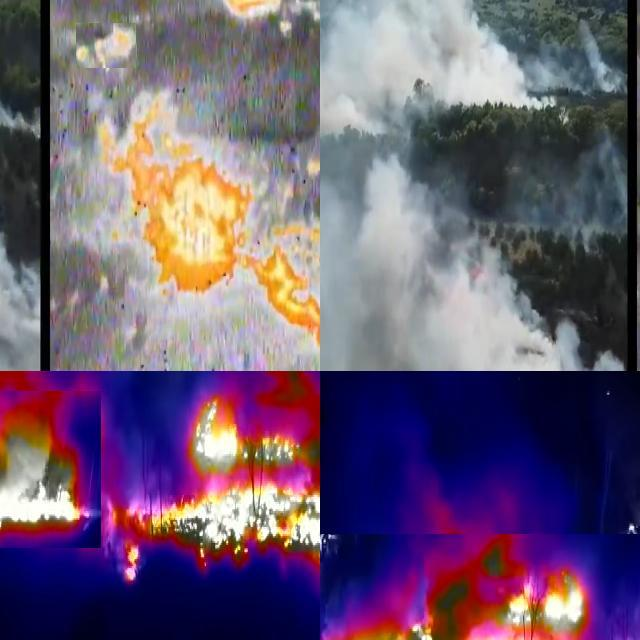fire: (96, 92, 321, 361), (122, 384, 321, 600), (321, 534, 640, 640), (1, 391, 101, 548), (76, 23, 136, 68), (223, 1, 283, 23)
